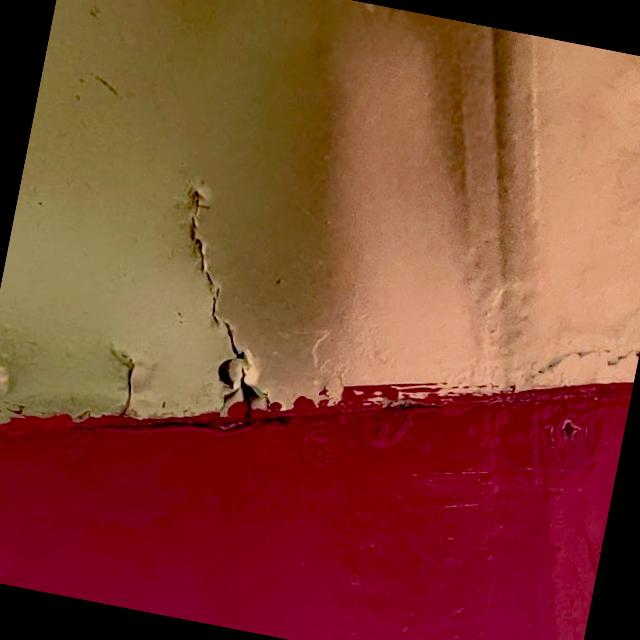crack: (130, 157, 326, 437), (80, 329, 171, 435)
